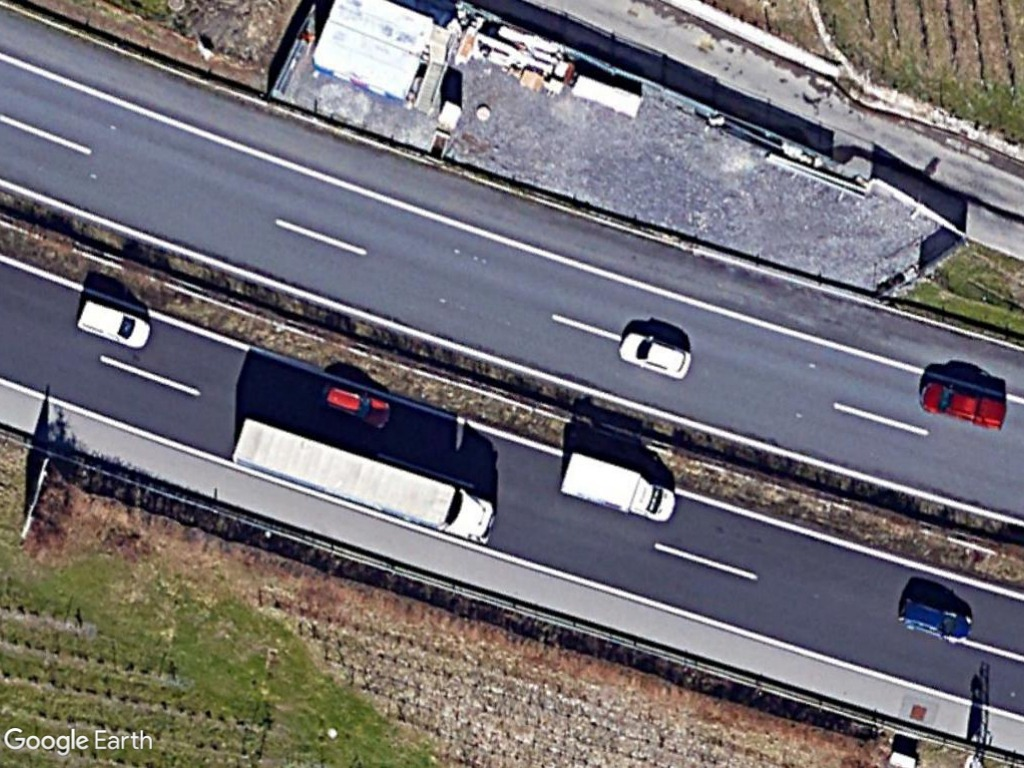car: (915, 376, 1013, 433), (612, 327, 700, 387), (897, 592, 978, 649), (318, 382, 399, 434)
longvehicle: (225, 411, 504, 549)
truck: (555, 448, 681, 527)
van: (71, 296, 157, 353)
